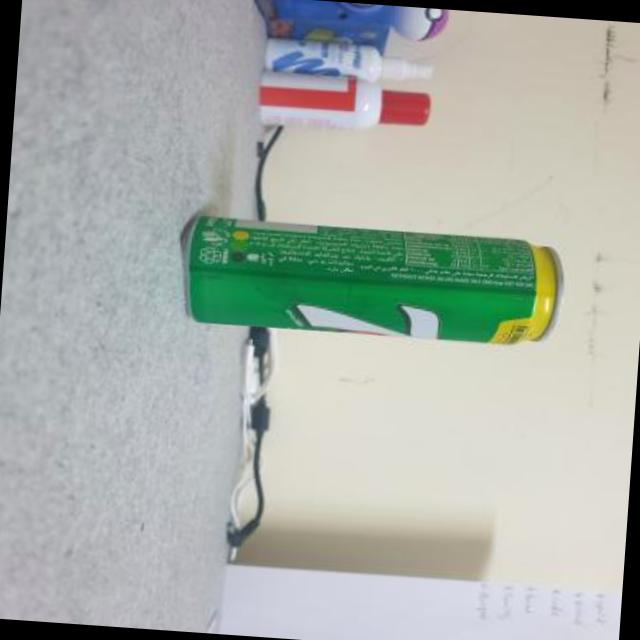metal: (191, 213, 563, 340)
